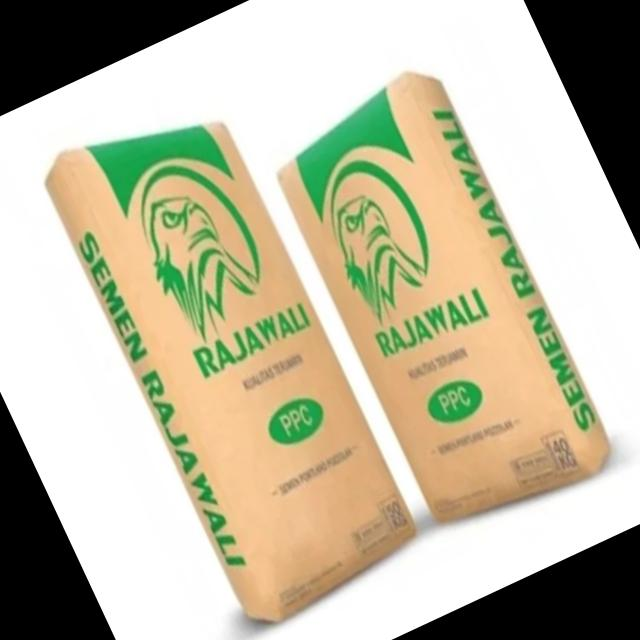KantongSemen: (32, 80, 429, 636), (255, 56, 622, 546)
